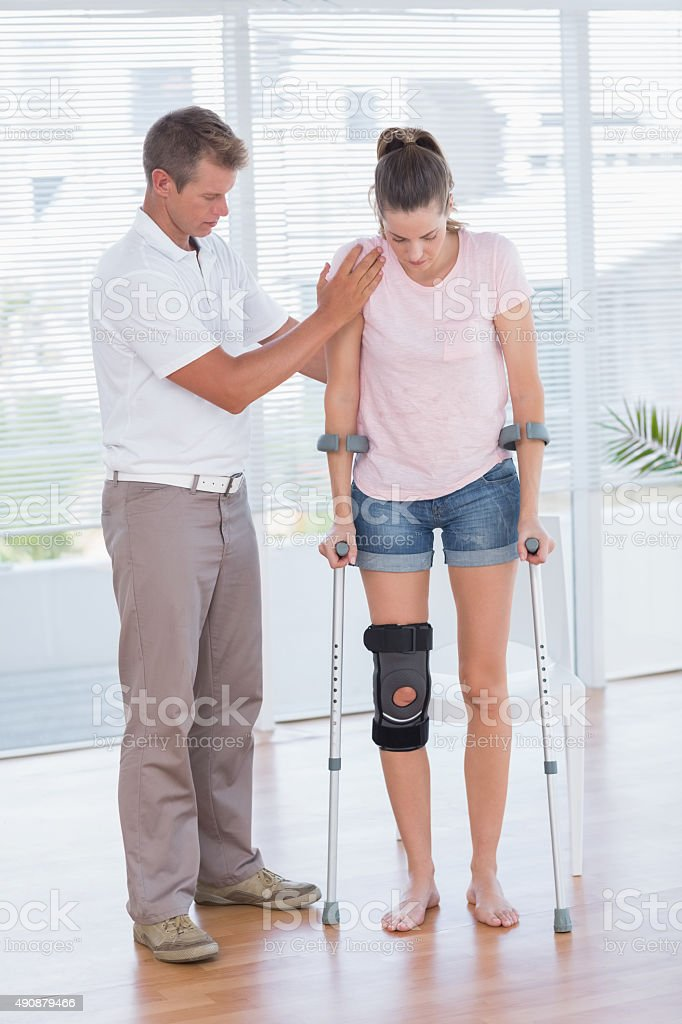crutches: (324, 126, 568, 934)
